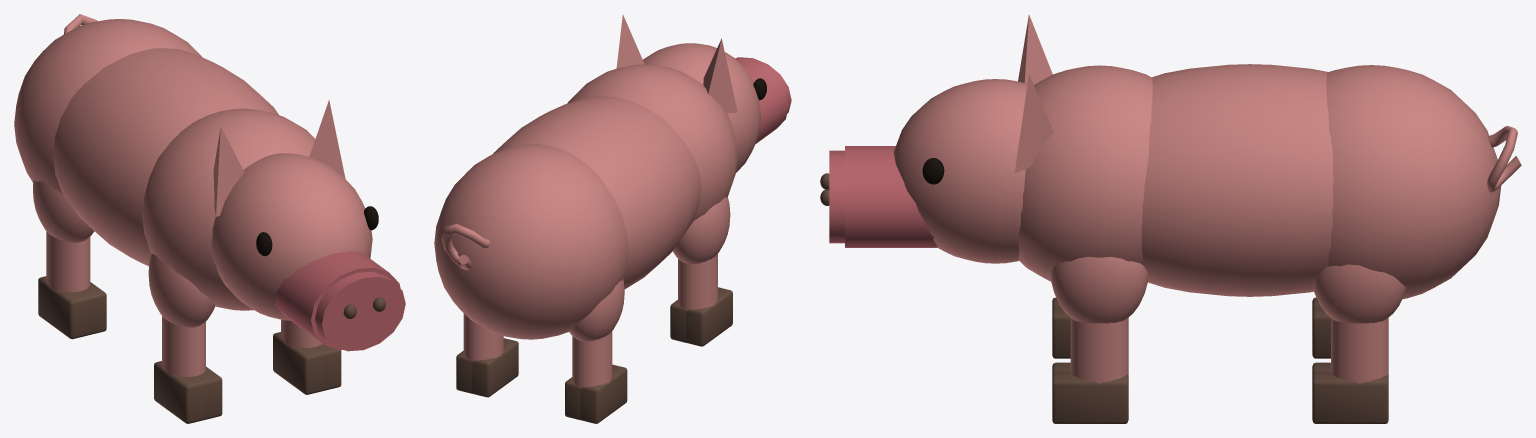
Rendered from PIG_DOMESTIC_SOW_ADULT_LODs.fbx.
The picture shows the model from 3 angles, left to right: view 1: azimuth 30°, elevation 25°; view 2: azimuth 150°, elevation 25°; view 3: azimuth 270°, elevation 25°; orthographic projection. The views are drawn at different scales.
Parts seen in each view (by area): view 1: PIG_DOMESTIC_SOW_ADULT_LOD0; view 2: PIG_DOMESTIC_SOW_ADULT_LOD0; view 3: PIG_DOMESTIC_SOW_ADULT_LOD0.
Boxes of the visible parts, bbox=[...] form: PIG_DOMESTIC_SOW_ADULT_LOD0: bbox=[14, 14, 405, 423]; PIG_DOMESTIC_SOW_ADULT_LOD0: bbox=[434, 14, 791, 423]; PIG_DOMESTIC_SOW_ADULT_LOD0: bbox=[820, 14, 1521, 423].
Size of what is drawn, in the model's own units: 0.58 by 0.88 by 1.65.
